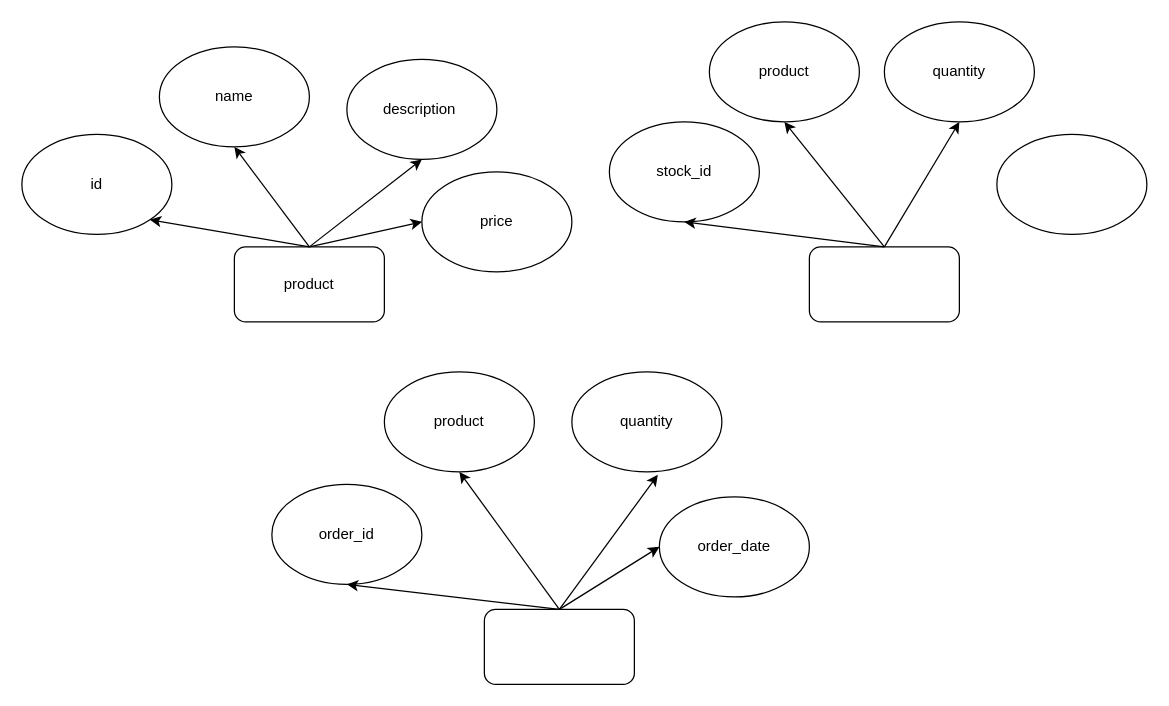
This 1169x706 diagram has some shape labels left out. Here are the shapes that lost their labels. From the top down, the centre of each, then its label:
[883,284]: stock
[558,646]: order
